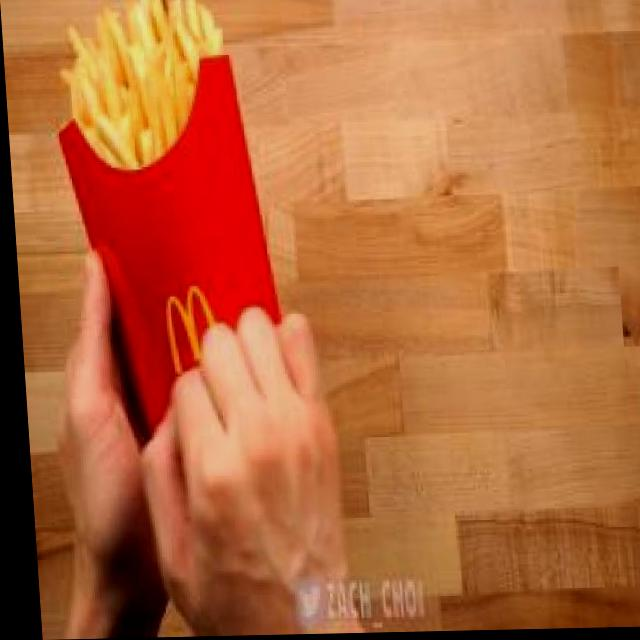french fries: (40, 0, 249, 177)
